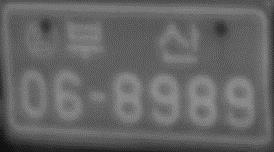-: (87, 88, 110, 106)
0: (19, 68, 49, 120)
6: (53, 69, 83, 122)
8: (185, 74, 219, 128), (112, 70, 145, 125)
9: (223, 76, 258, 130), (148, 72, 181, 125)
부산_D: (64, 18, 203, 67)
영: (24, 18, 63, 60)
